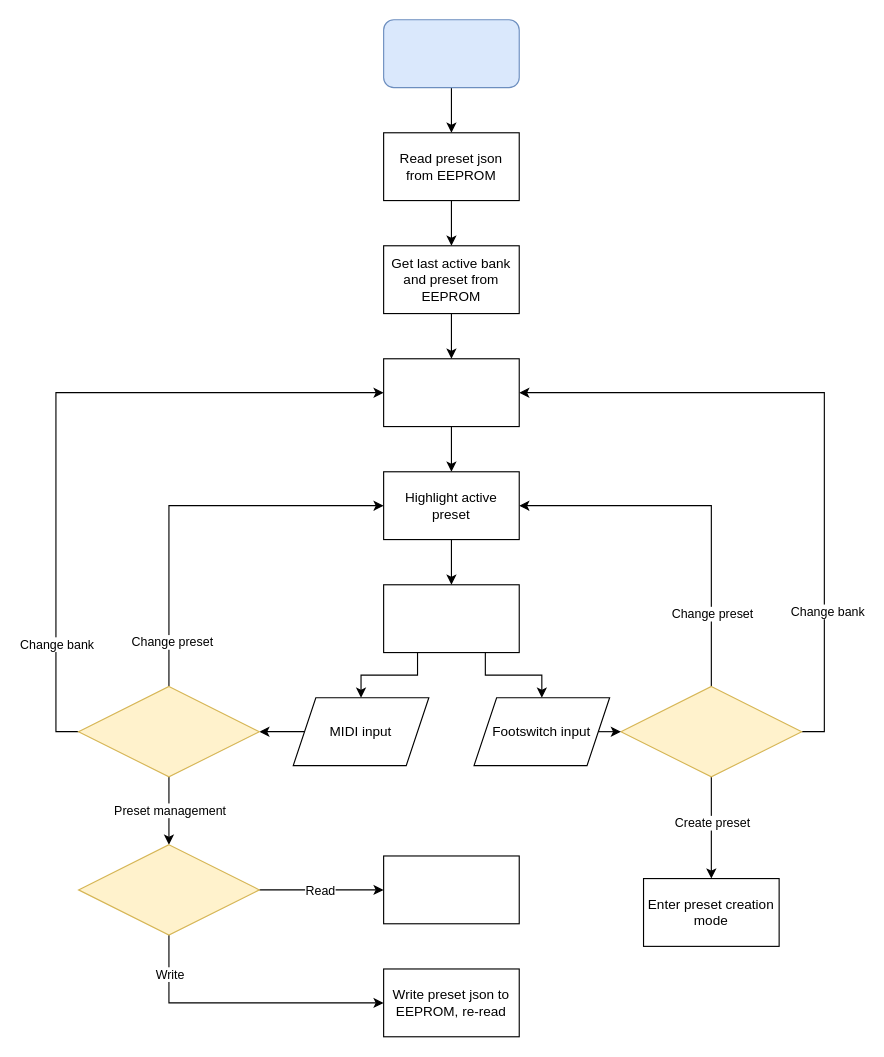
The diagram is 884 pixels wide and 1057 high, and some of its shapes have lost their labels. Each missing label, with the centre of its shape:
"Display active bank and it's presets" belongs at pixel 451 392.
"Send MIDI messages in current preset" belongs at pixel 451 618.
"Send preset json" belongs at pixel 451 889.
"START" belongs at pixel 451 53.
